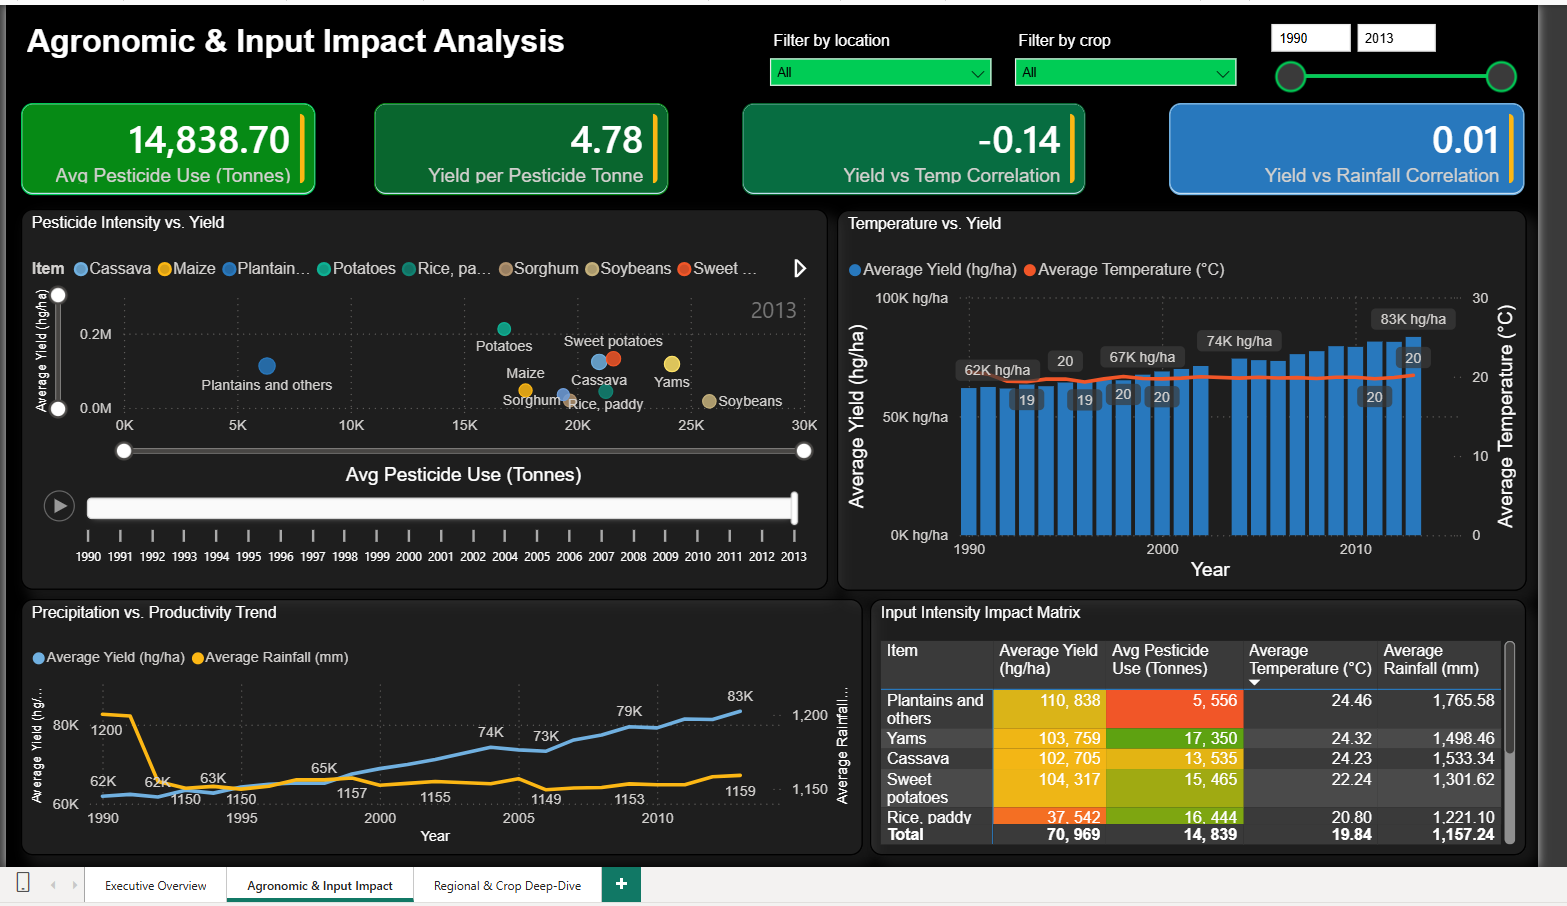

The page's visual inventory and layout, read from the dashboard file:
{"tool":"powerbi","page":{"name":"Agronomic & Input Impact","canvas":[1280,720],"ordinal":1},"visuals":[{"type":"textbox","box":[12.9,10.4,470.1,47.4],"z":0},{"type":"slicer","fields":{"Values":["Dim_Date.Year"]},"box":[1044.1,6,225.5,75.2],"z":1000},{"type":"cardVisual","fields":{"Data":["_Measures.Total Pesticides (Tonnes)"]},"box":[12.9,81.8,246.4,76.8],"z":2000,"group":"g1"},{"type":"scatterChart","title":"Pesticide Intensity vs. Yield ","fields":{"Category":["Dim_Date.Year"],"X":["_Measures.Total Pesticides (Tonnes)"],"Y":["_Measures.Average Yield (hg/ha)"],"Series":["Dim_Crop.Item"],"Size":["_Measures.Average Rainfall (mm)"],"Play":["Dim_Date.Year"]},"box":[12.9,170.8,673.6,318.3],"z":2000},{"type":"lineStackedColumnComboChart","title":"Temperature vs. Yield","fields":{"Category":["Dim_Date.Year"],"Y":["_Measures.Average Yield (hg/ha)"],"Y2":["_Measures.Average Temperature (°C)"]},"box":[694.3,171.6,575.8,318],"z":3000},{"type":"lineChart","title":"Precipitation vs. Productivity Trend","fields":{"Category":["Dim_Date.Year"],"Y":["_Measures.Average Yield (hg/ha)"],"Y2":["_Measures.Average Rainfall (mm)"]},"box":[12.9,496,703,213.9],"z":4000},{"type":"pivotTable","title":"Input Intensity Impact Matrix","fields":{"Rows":["Dim_Crop.Item"],"Values":["_Measures.Average Yield (hg/ha)","_Measures.Total Pesticides (Tonnes)","_Measures.Average Temperature (°C)","_Measures.Average Rainfall (mm)"]},"box":[721.9,496,547.7,213.9],"z":5000},{"type":"slicer","fields":{"Values":["Dim_Crop.Item"]},"box":[832.8,17.3,205,63.3],"z":6000},{"type":"slicer","fields":{"Values":["Dim_Location.Area"]},"box":[628.1,17.5,205,63.3],"z":7000},{"type":"group","id":"g1","title":"Group 1","box":[12.9,81.8,1256.2,76.8],"z":8000},{"type":"cardVisual","fields":{"Data":["_Measures.Yield per Pesticide Tonne"]},"box":[307.7,81.8,246.4,76.8],"z":8000,"group":"g1"},{"type":"cardVisual","fields":{"Data":["_Measures.Correlation Yield vs Temp"]},"box":[615.1,81.8,287.3,76.8],"z":9000,"group":"g1"},{"type":"cardVisual","fields":{"Data":["_Measures.Correlation Yield vs Rainfall"]},"box":[971.8,81.8,297.4,76.8],"z":10000,"group":"g1"}]}

Visuals, with their boxes on the page's 1280x720 design canvas (x1, y1, x2, y2). These are canvas units, not pixel positions in the 1567x906 screenshot, which may show the page scaled, cropped or inside an application window:
textbox: 13/10/483/58
slicer - Dim_Date.Year: 1044/6/1270/81
cardVisual - _Measures.Total Pesticides (Tonnes): 13/82/259/159
"Pesticide Intensity vs. Yield " scatterChart: 13/171/686/489
"Temperature vs. Yield" lineStackedColumnComboChart: 694/172/1270/490
"Precipitation vs. Productivity Trend" lineChart: 13/496/716/710
"Input Intensity Impact Matrix" pivotTable: 722/496/1270/710
slicer - Dim_Crop.Item: 833/17/1038/81
slicer - Dim_Location.Area: 628/18/833/81
"Group 1" group: 13/82/1269/159
cardVisual - _Measures.Yield per Pesticide Tonne: 308/82/554/159
cardVisual - _Measures.Correlation Yield vs Temp: 615/82/902/159
cardVisual - _Measures.Correlation Yield vs Rainfall: 972/82/1269/159
